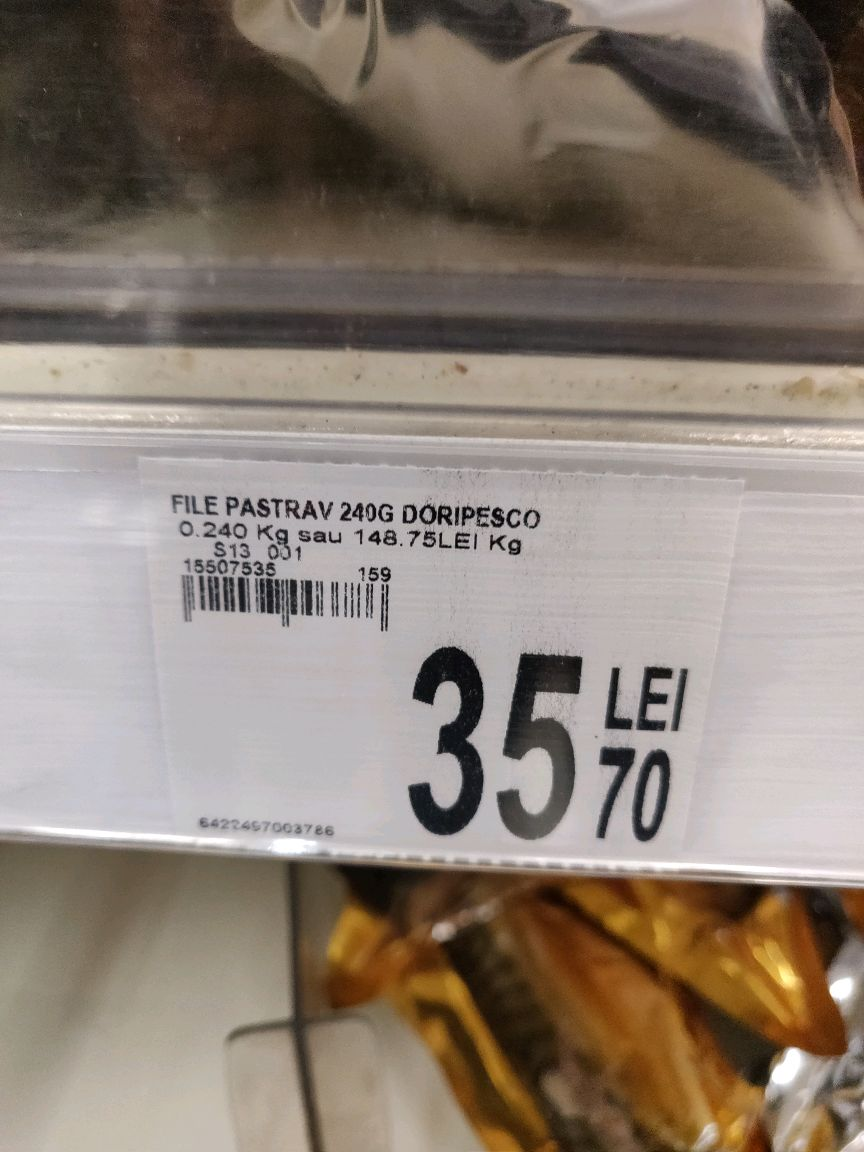price_bani: (579, 742, 680, 858)
price_lei: (393, 641, 590, 847)
price_tag: (126, 451, 759, 885)
product_id: (179, 814, 349, 844)
product_name: (164, 483, 548, 532)
